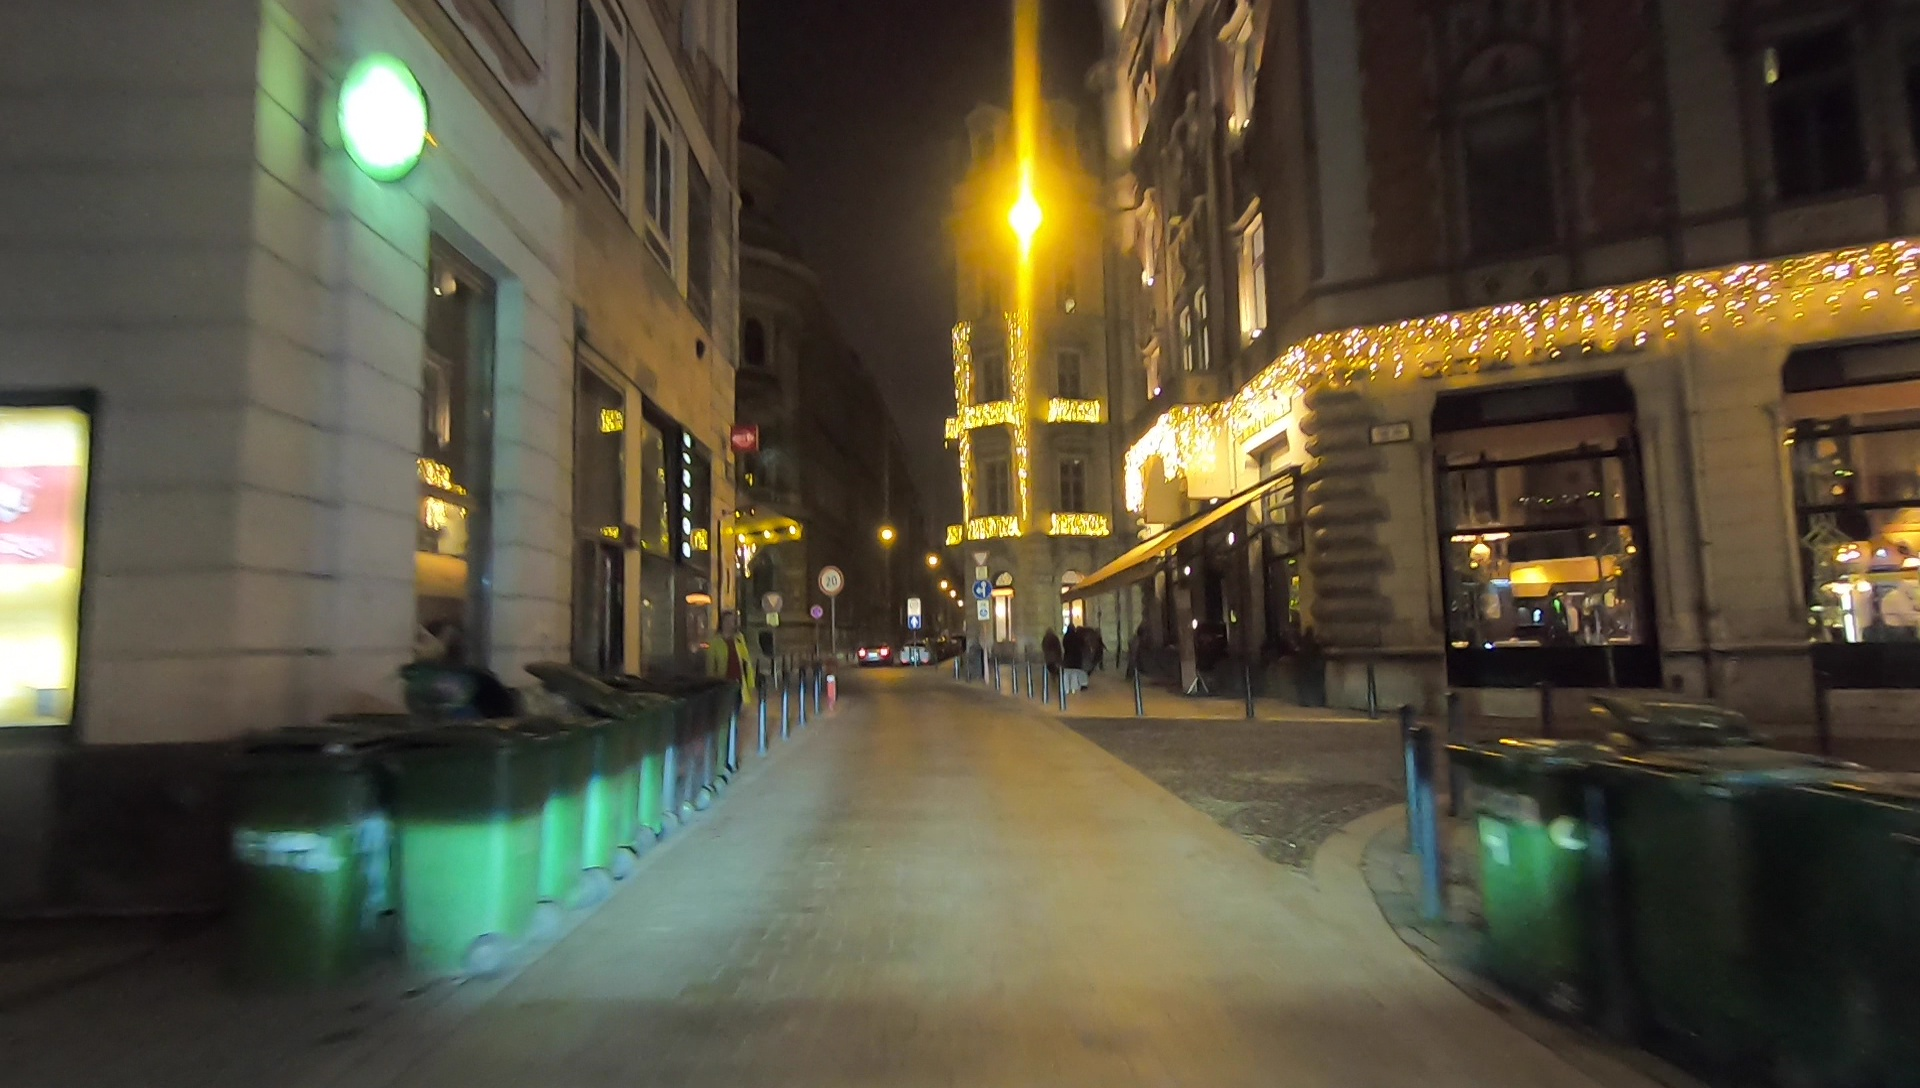person: (712, 610, 752, 754), (1062, 621, 1084, 695), (1041, 626, 1062, 680), (1126, 621, 1143, 676)
